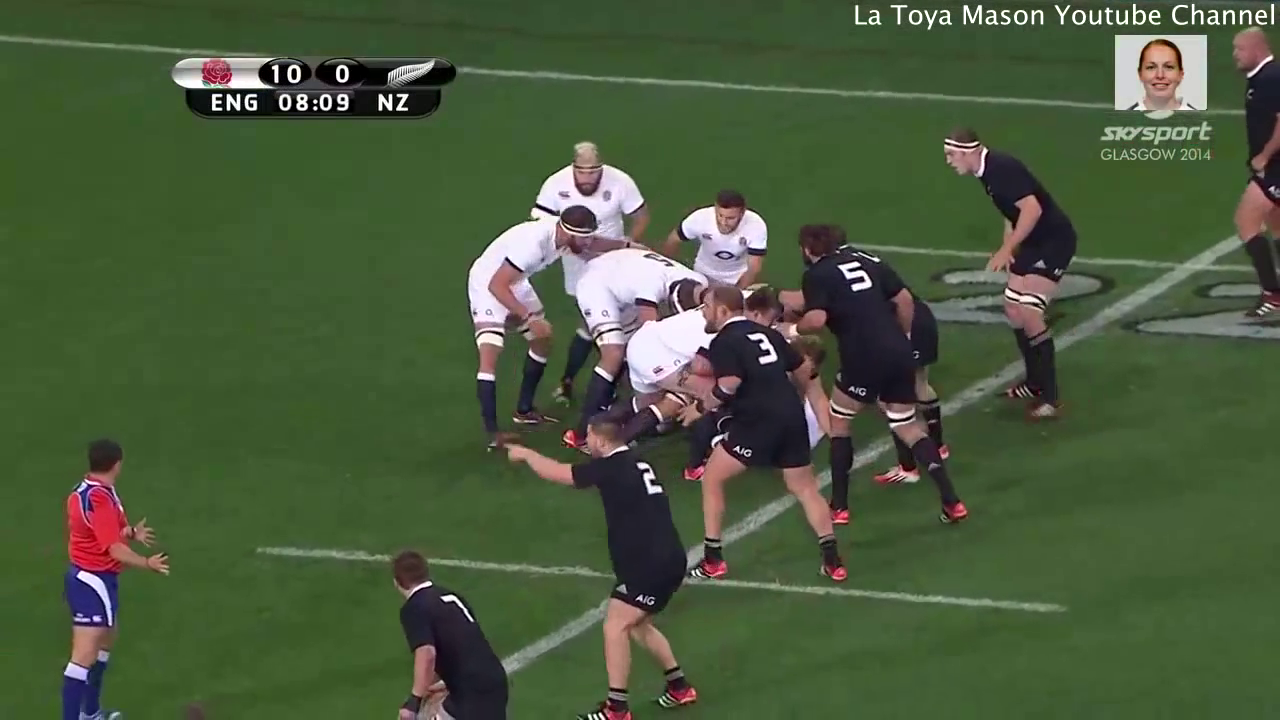player: (500, 408, 700, 720), (681, 286, 857, 588), (797, 231, 969, 524), (937, 129, 1073, 434), (46, 437, 179, 720), (471, 200, 605, 449), (572, 236, 697, 459), (381, 545, 522, 720), (518, 140, 658, 245), (1231, 26, 1280, 324), (656, 188, 777, 290)
